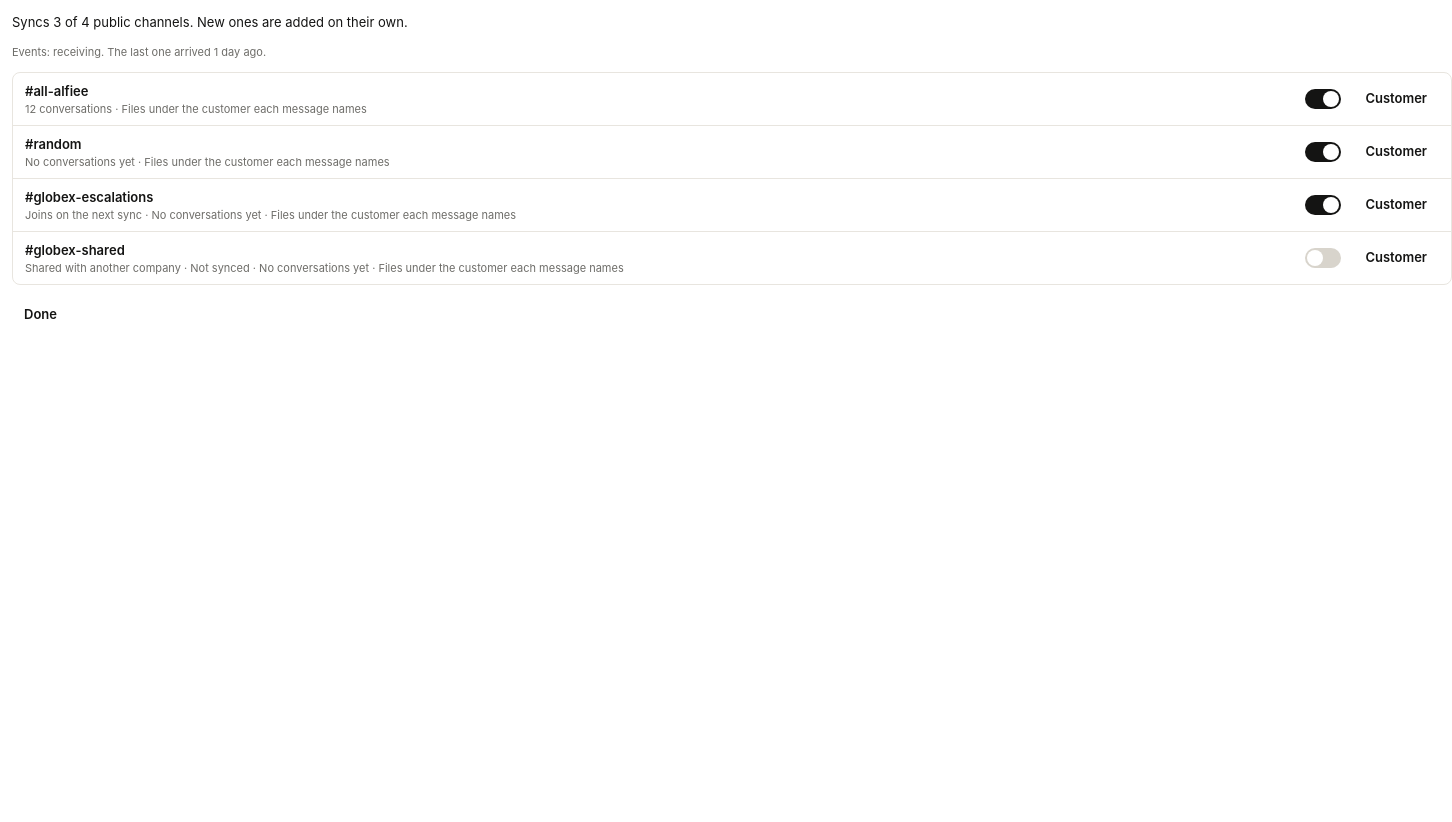
Scenario: SlackChannelsPanel (frontend Decisions 2 to 4) › sets a channel to a customer
Expected: the text "#globex-escalations" is shown, [25,189,153,205]
Click the button with aria-label "Choose the customer of #globex-escalations". click: (1396, 205)
box: [1353,187,1439,223]
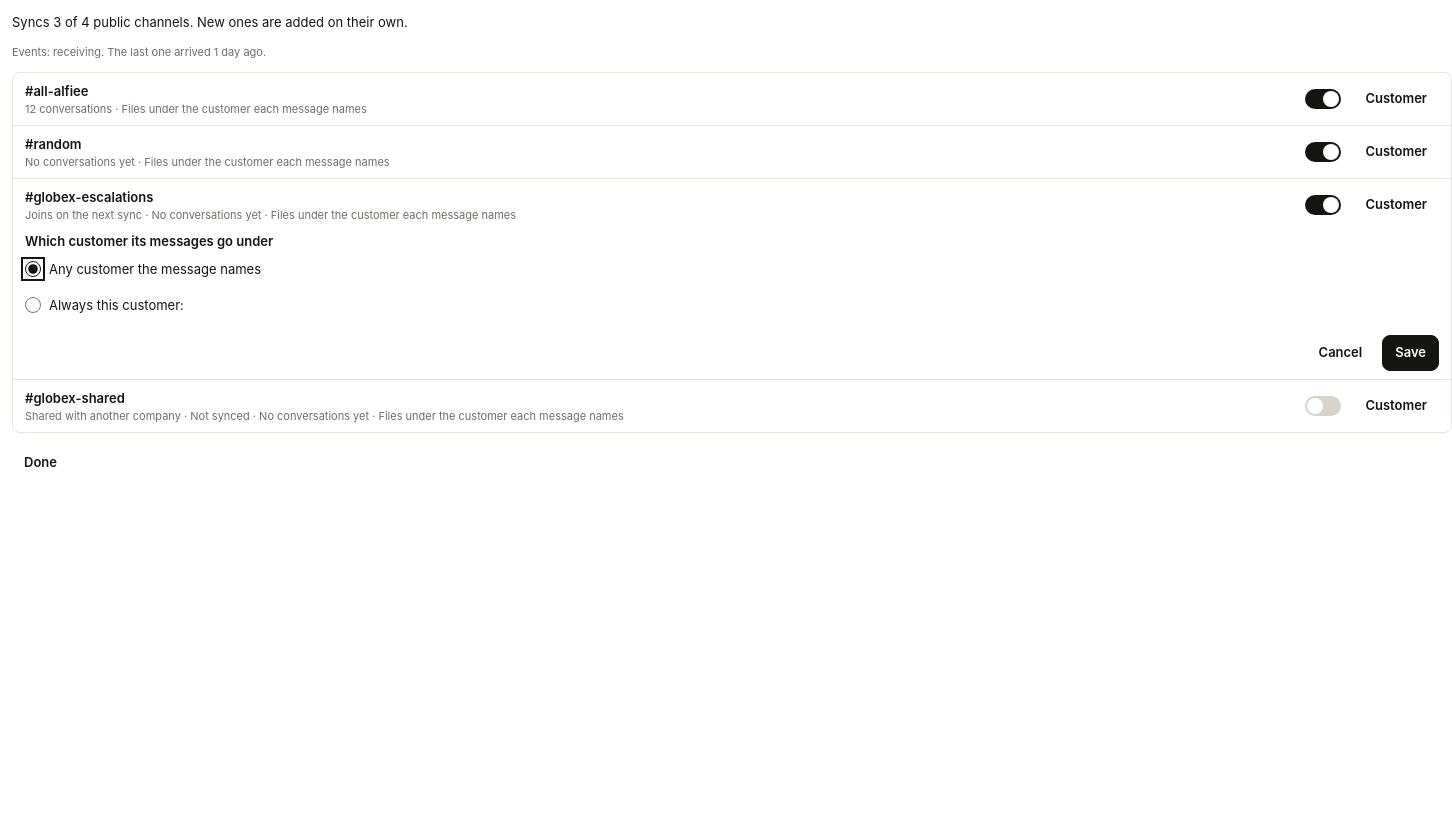
Click the radio button labelled "Always this customer:". click: (33, 305)
box: [25,297,41,313]
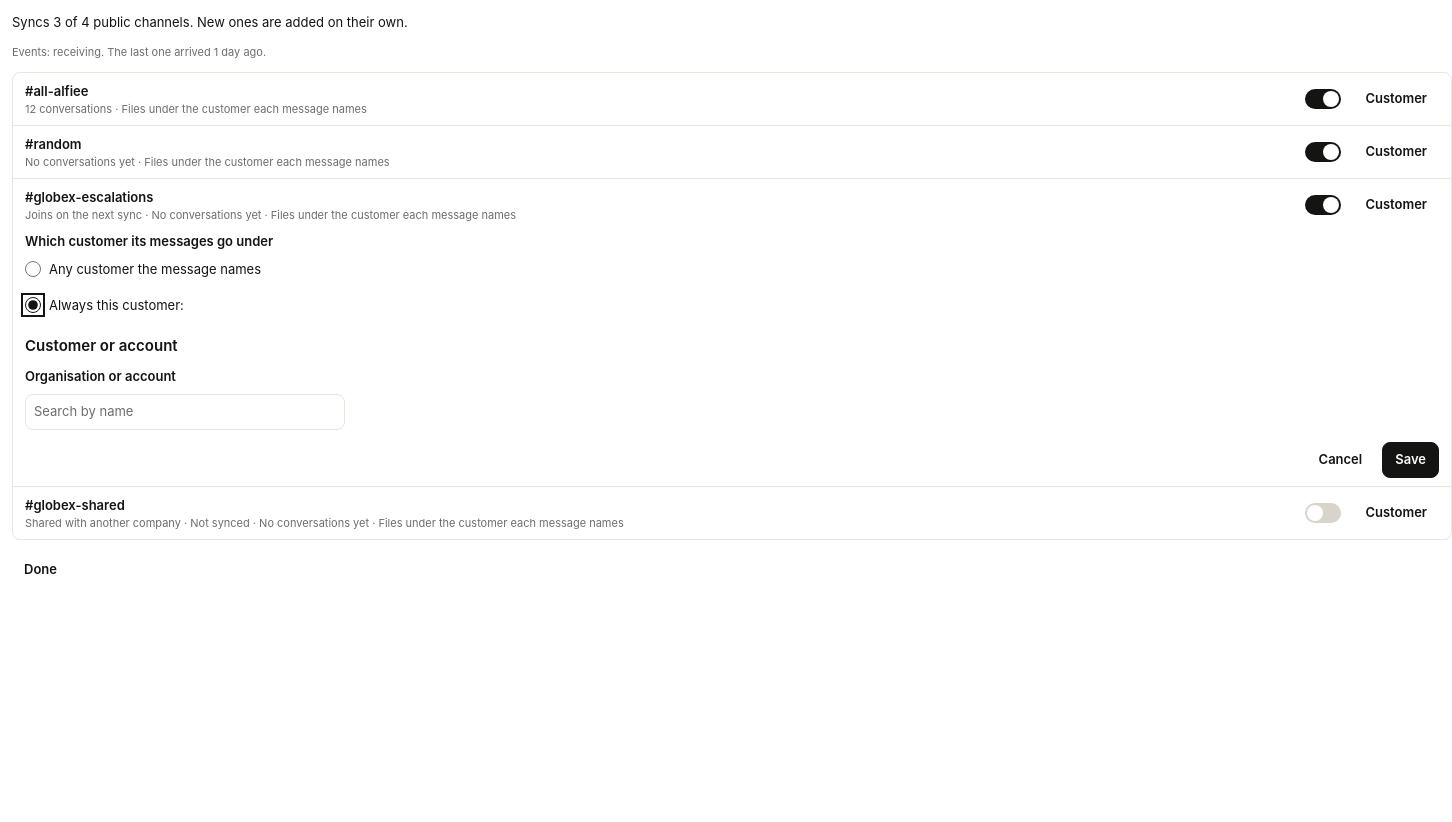
Type "Glo" into the search field labelled "Organisation or account". click: (185, 412)
box: [25,394,345,430]
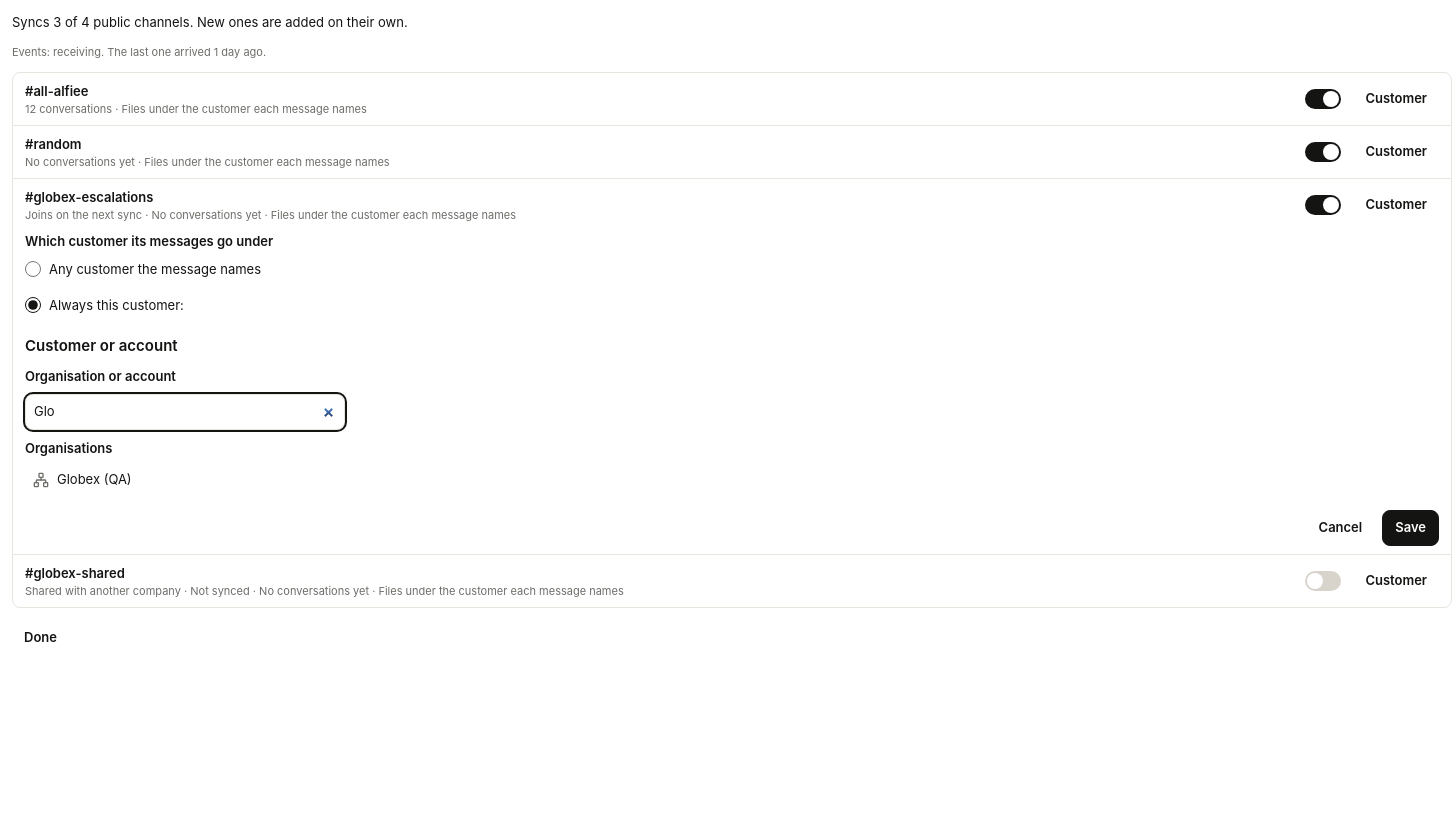
Click the button "Globex (QA)". click: (94, 479)
box: [25,462,1439,498]
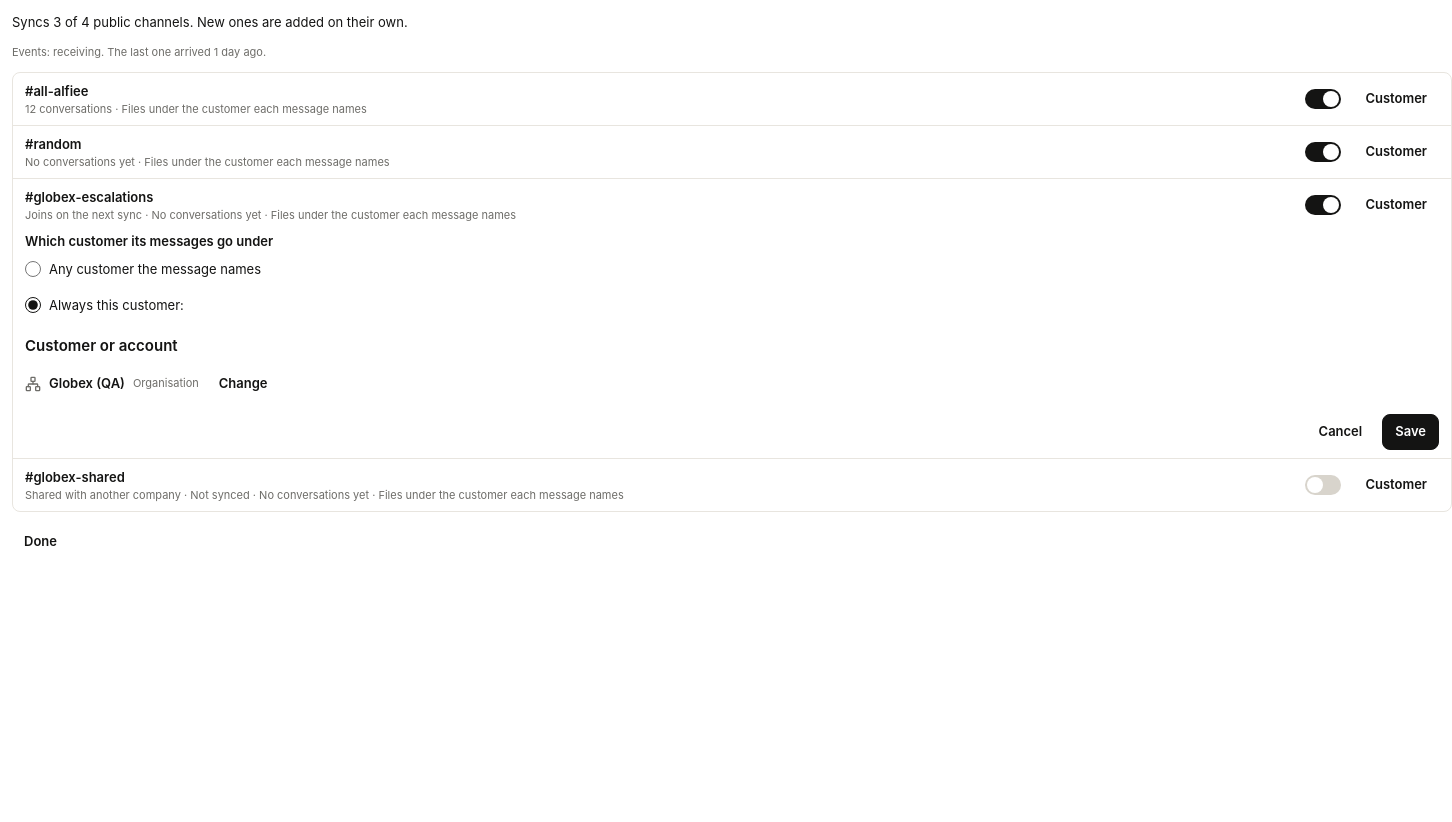
Click the button "Save". click: (1411, 432)
box: [1382,414,1439,450]
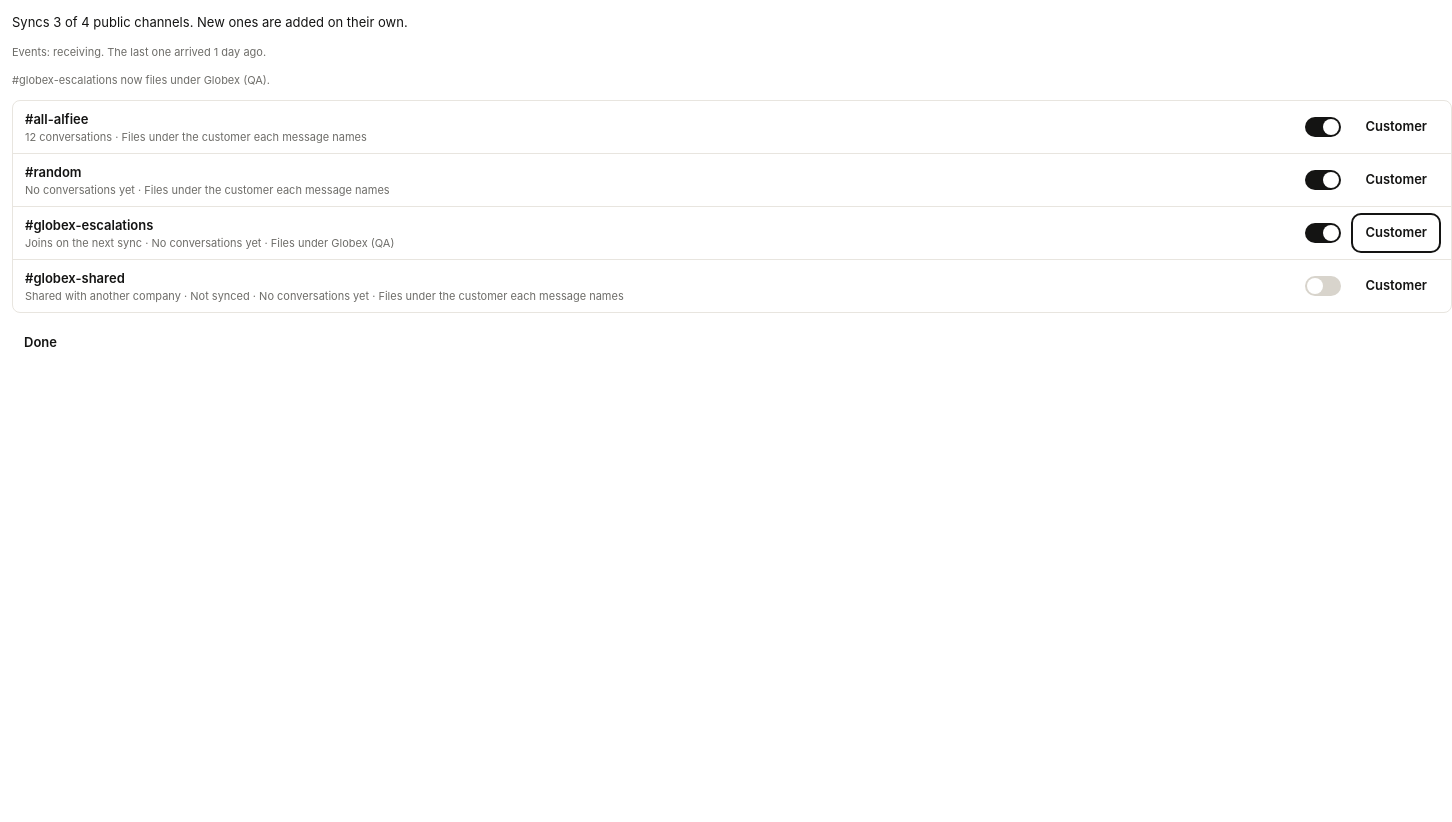
Expected: the message reads "#globex-escalations now files under Globex (QA).", [12,73,270,87]
Expected: the text "Files under Globex (QA)" is shown, [271,236,394,250]
